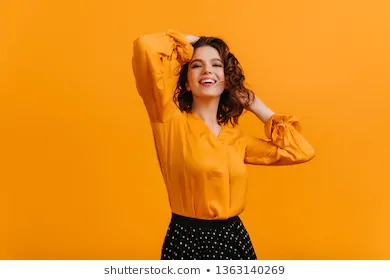C_blouse: (122, 34, 318, 219)
